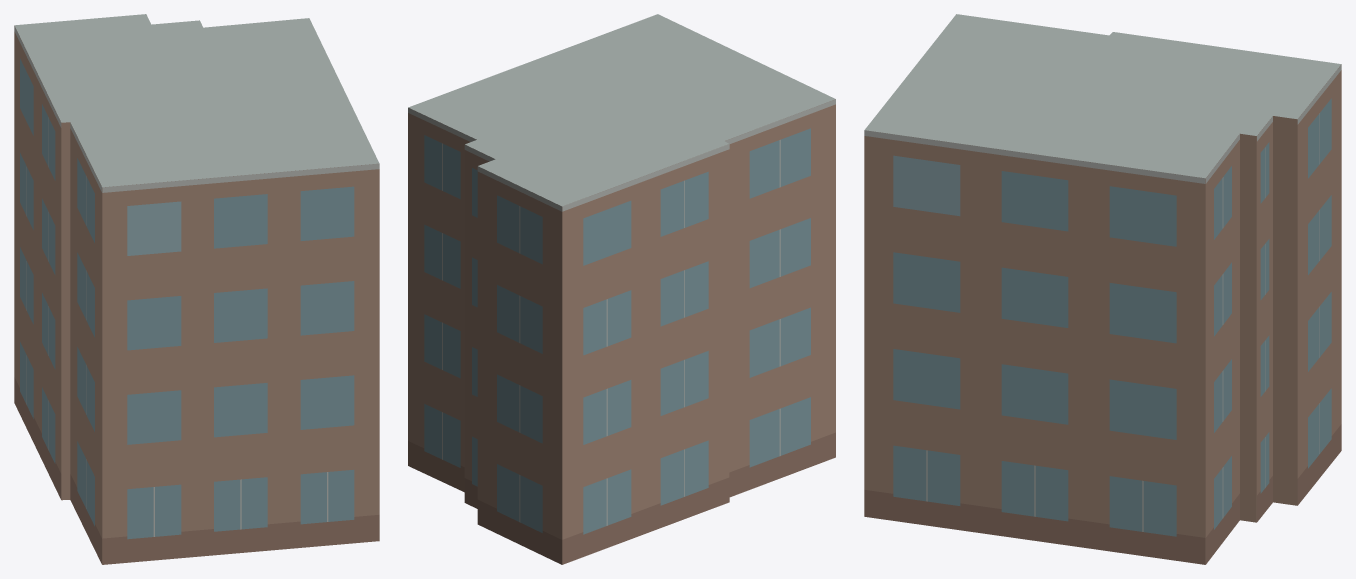
File: survey-upis-32591638.glb
The picture shows the model from 3 angles, left to right: view 1: azimuth 30°, elevation 25°; view 2: azimuth 150°, elevation 25°; view 3: azimuth 270°, elevation 25°; orthographic projection. The views are drawn at different scales.
Parts seen in each view (by area): view 1: survey-upis-32591638.tmp; view 2: survey-upis-32591638.tmp; view 3: survey-upis-32591638.tmp.
Part boxes in pixels (x1,y1,x2,y2): survey-upis-32591638.tmp: (14,14,379,564); survey-upis-32591638.tmp: (408,14,835,564); survey-upis-32591638.tmp: (864,14,1341,564).
Size of the model in its own units: 15.04 by 16.49 by 18.46.
